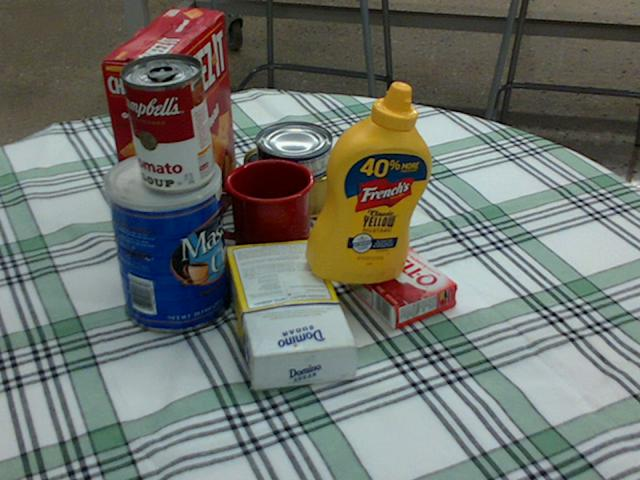cracker_box: (100, 9, 236, 259)
gelatin_box: (345, 244, 455, 329)
master_chef_can: (102, 150, 230, 333)
mug: (201, 157, 313, 263)
mustard_bottle: (306, 80, 431, 282)
potted_meat_can: (239, 140, 336, 219)
sugar_box: (225, 239, 359, 387)
tomato_soup_can: (121, 52, 213, 191)
tuna_fish_can: (254, 121, 332, 183)
